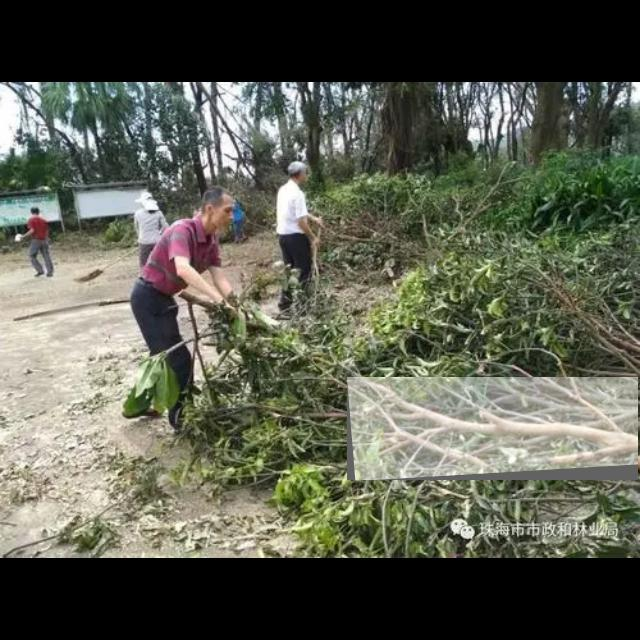Fallen Tree: (347, 377, 639, 481)
